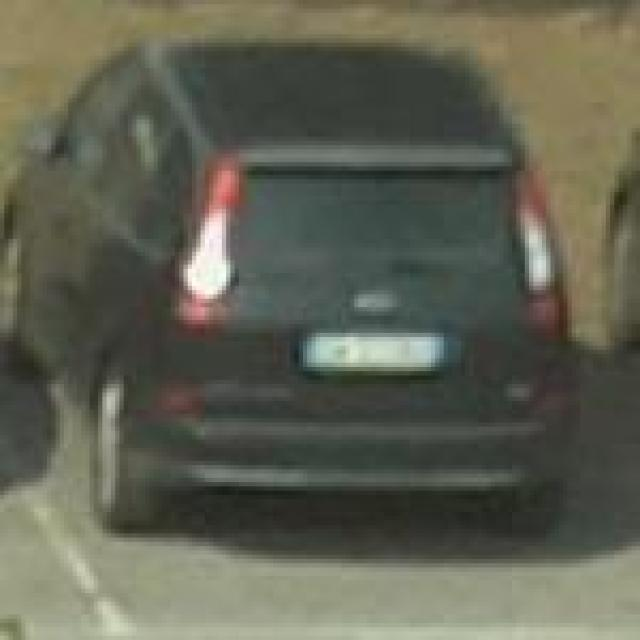cars-sUYr: (0, 22, 598, 566)
